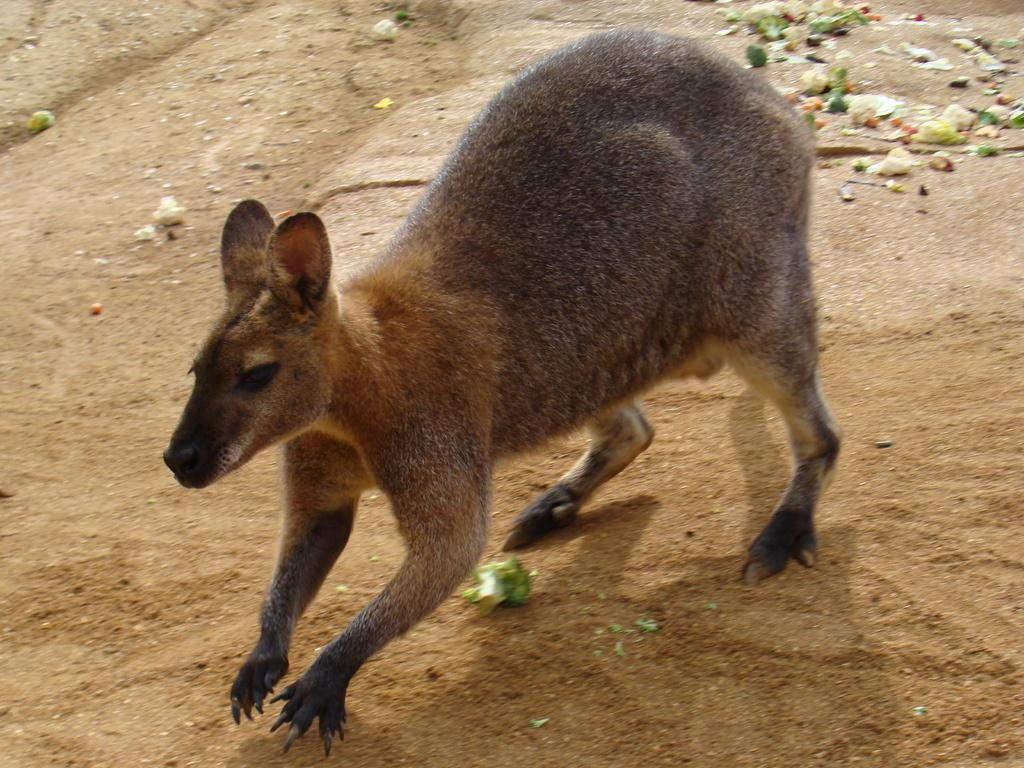kangaroo: (161, 26, 848, 762)
